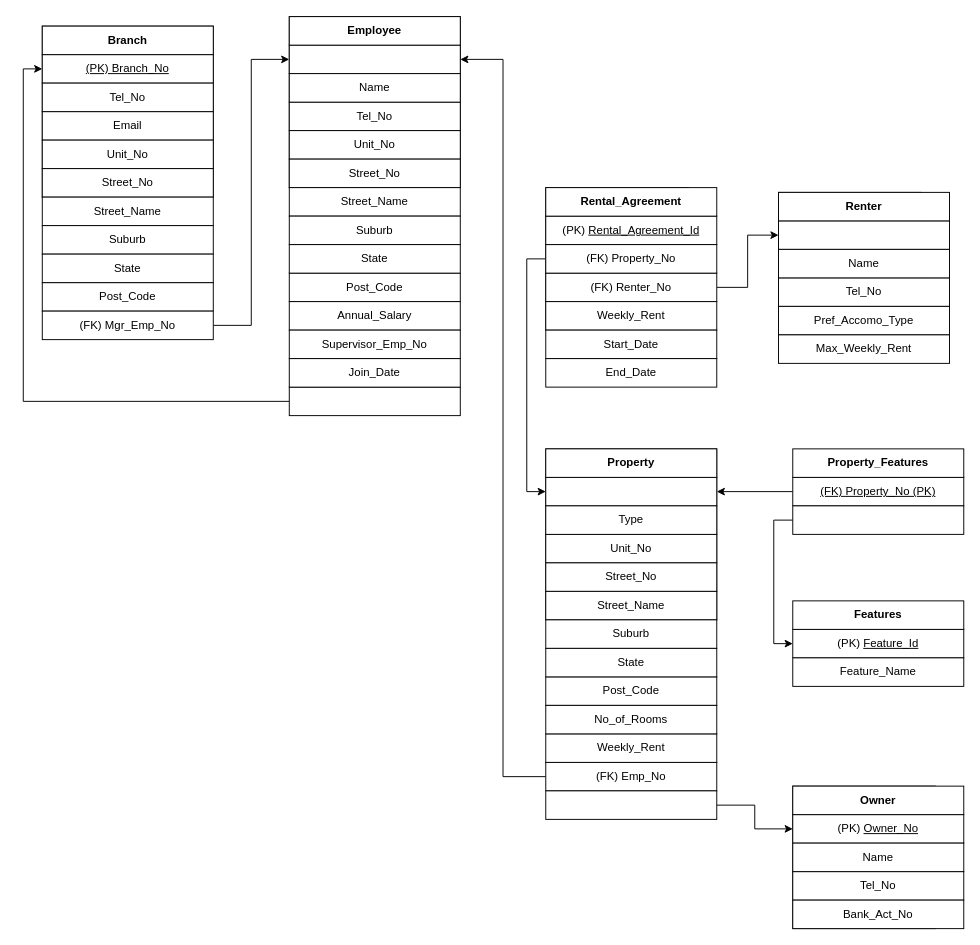
The diagram is 980 pixels wide and 945 high, and some of its shapes have lost their labels. Each missing label, with the centre of its shape:
"(FK) Branch_No" goes at pixel 374 401.
"(FK) Feature_Id (PK)" goes at pixel 878 519.
"(FK) Owner_No" goes at pixel 631 804.
"(PK) Emp_No" goes at pixel 374 59.
"(PK) Property_No" goes at pixel 631 491.
"(PK) Renter_No" goes at pixel 864 234.
